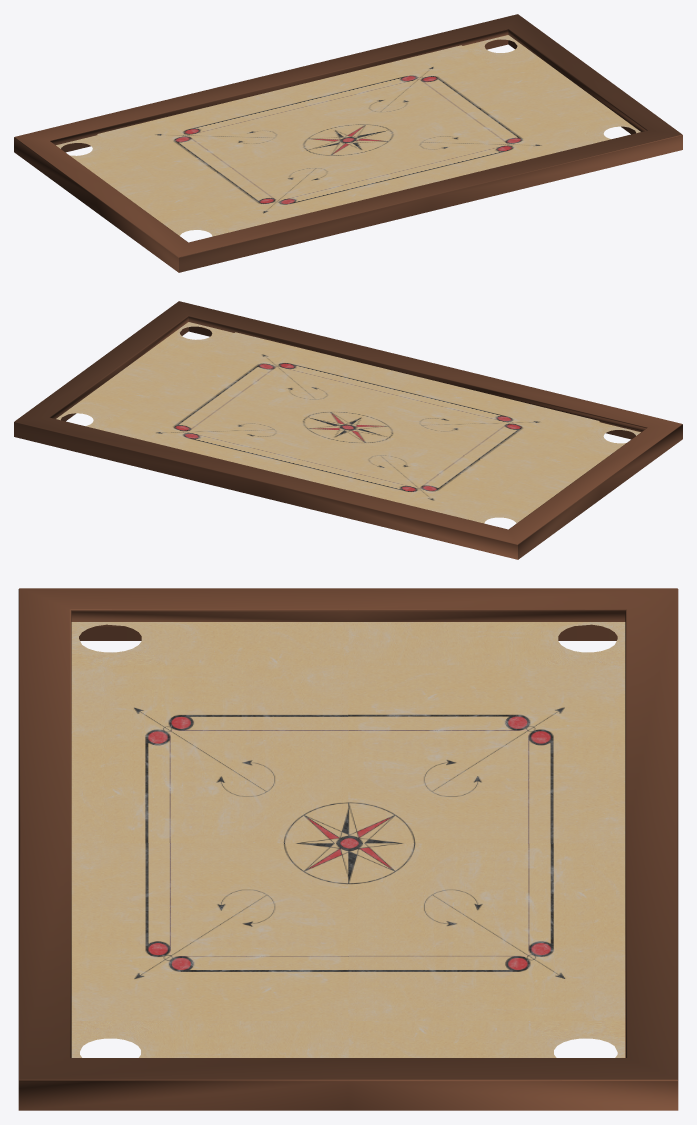
Rendered from Maps2.fbx.
The picture shows the model from 3 angles, top to bottom: view 1: azimuth 30°, elevation 25°; view 2: azimuth 150°, elevation 25°; view 3: azimuth 270°, elevation 25°; orthographic projection. The views are drawn at different scales.
Parts seen in each view (by area): view 1: Object_4; view 2: Object_4; view 3: Object_4.
Boxes of the visible parts, x1,y1,x2,y2 form: Object_4: (14,14,682,272); Object_4: (14,301,682,559); Object_4: (18,588,678,1110).
Bounding box in the file's own units: 440 × 13 × 249.
